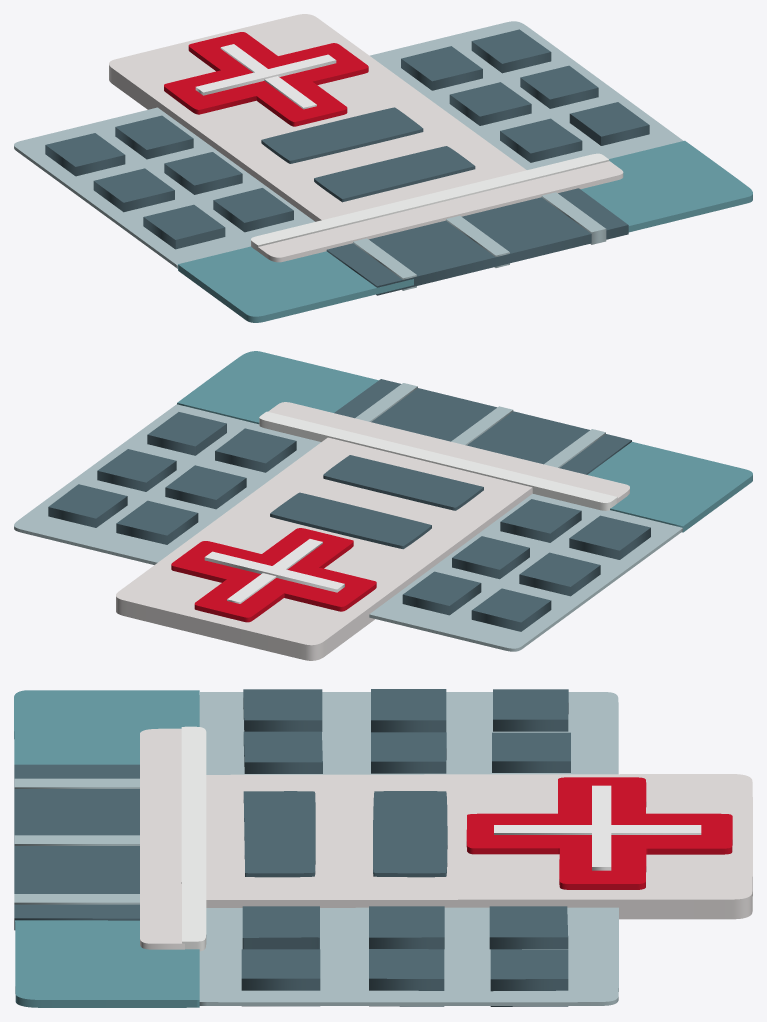
The model's file is emoji_u1f3e5.glb.
The picture shows the model from 3 angles, top to bottom: view 1: azimuth 30°, elevation 25°; view 2: azimuth 150°, elevation 25°; view 3: azimuth 270°, elevation 25°; orthographic projection. The views are drawn at different scales.
Visible parts, largest first — view 1: emoji_u1f3e5; view 2: emoji_u1f3e5; view 3: emoji_u1f3e5.
Part boxes in pixels (x1,y1,x2,y2): emoji_u1f3e5: (14,14,752,322); emoji_u1f3e5: (14,351,752,660); emoji_u1f3e5: (14,689,752,1007).
Bounding box in the file's own units: 0.0337 × 0.002 × 0.034.
